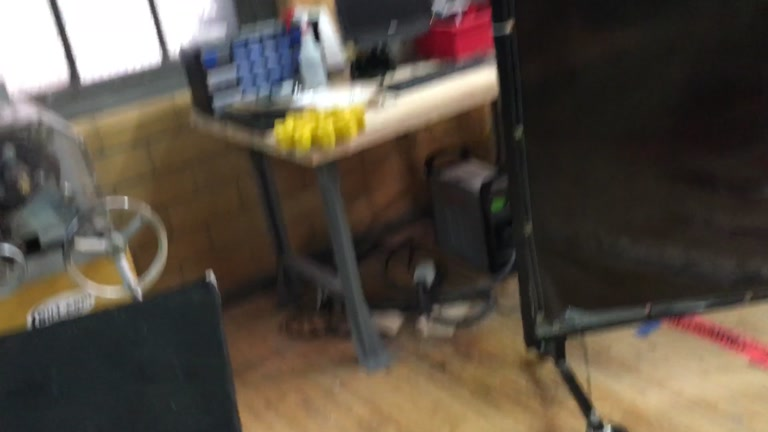gear: (272, 106, 366, 153)
